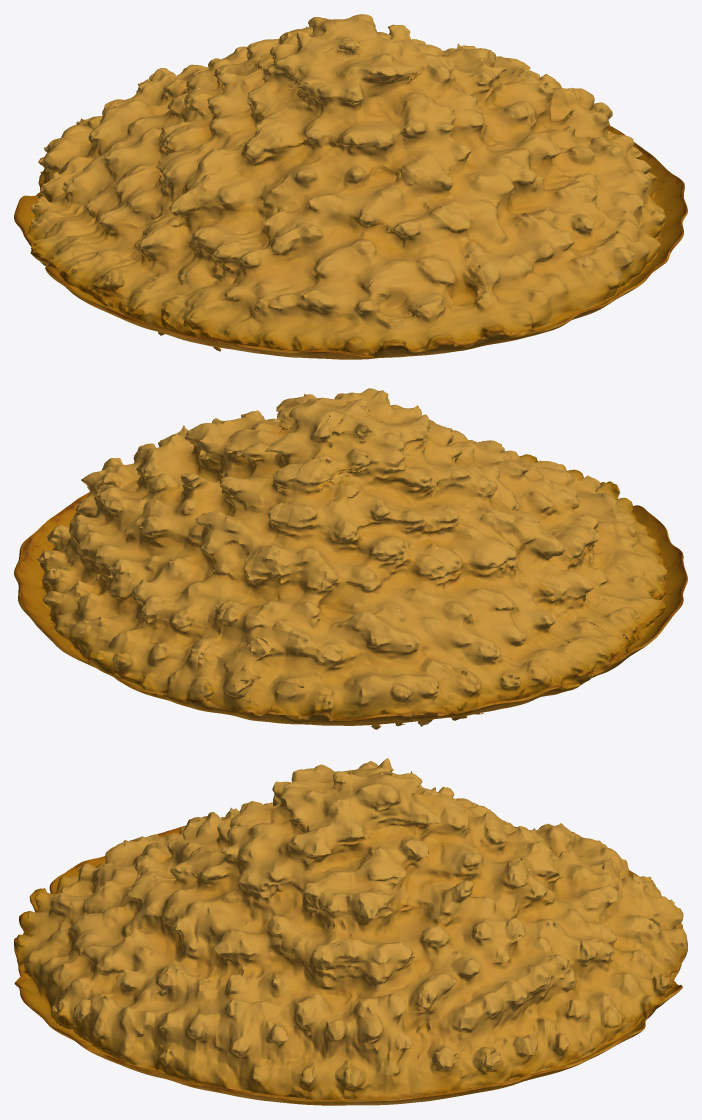
File: srivilliputturPalkova.glb
The picture shows the model from 3 angles, top to bottom: view 1: azimuth 30°, elevation 25°; view 2: azimuth 150°, elevation 25°; view 3: azimuth 270°, elevation 25°; orthographic projection. The views are drawn at different scales.
Visible parts, largest first — view 1: tripo_node_a34ce43e-80c8-47a4-9540-6868da6a404d; view 2: tripo_node_a34ce43e-80c8-47a4-9540-6868da6a404d; view 3: tripo_node_a34ce43e-80c8-47a4-9540-6868da6a404d.
Boxes of the visible parts, x1,y1,x2,y2 form: tripo_node_a34ce43e-80c8-47a4-9540-6868da6a404d: (14,14,687,359); tripo_node_a34ce43e-80c8-47a4-9540-6868da6a404d: (14,388,687,729); tripo_node_a34ce43e-80c8-47a4-9540-6868da6a404d: (14,758,687,1105).
Size of the model in its own units: 1 by 0.335 by 0.9911.
Materials: 1 (1 with a texture image).
